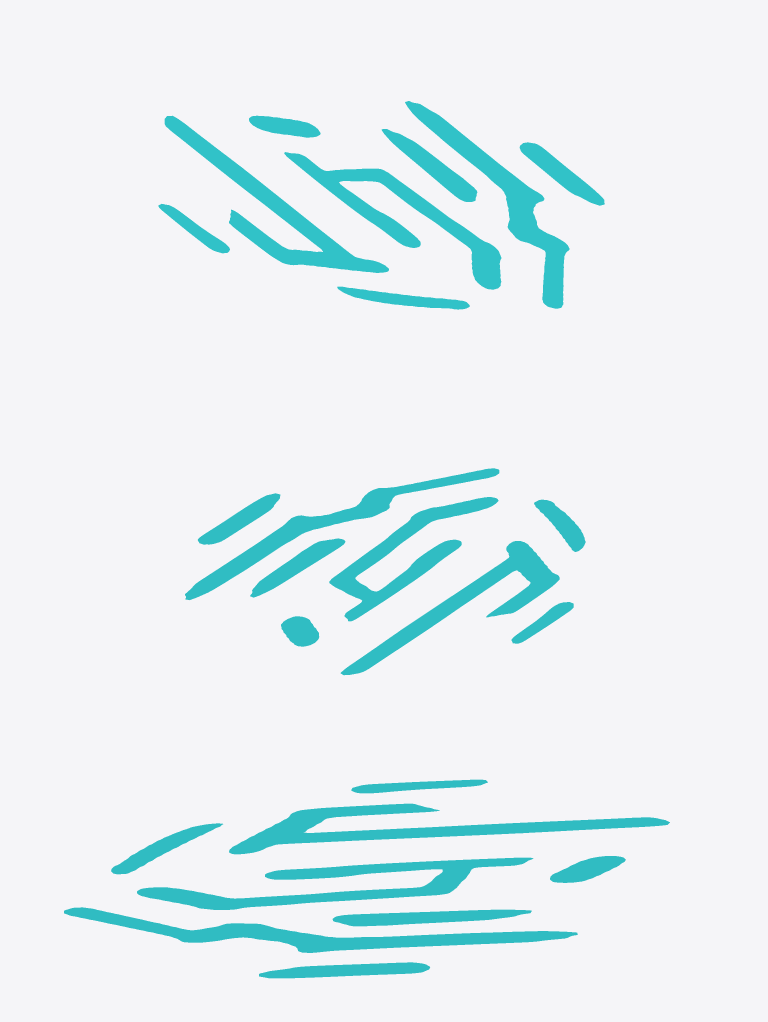
The model's file is glowingletter9.fbx.
3 renders of one model, top to bottom at view 1: azimuth 30°, elevation 25°; view 2: azimuth 150°, elevation 25°; view 3: azimuth 270°, elevation 25°, orthographic. The views are drawn at different scales.
Visible parts, largest first — view 1: pPlane17; view 2: pPlane17; view 3: pPlane17.
Part boxes in pixels (x1,y1,x2,y2): pPlane17: [158, 101, 604, 309]; pPlane17: [185, 468, 585, 675]; pPlane17: [64, 779, 669, 978].
Size of the model in its own units: 9.9 by 0.6291 by 13.99.
